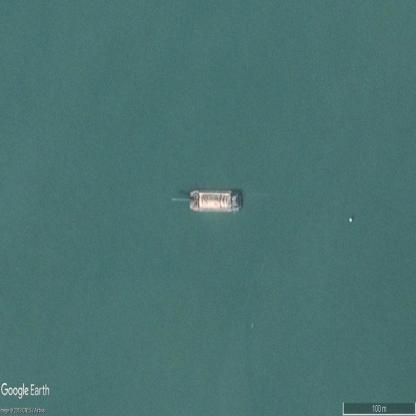ship: (190, 189, 242, 212)
